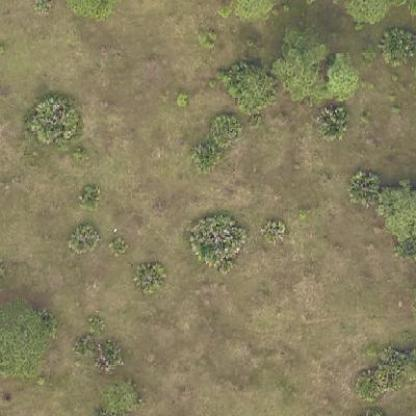tree-top: (268, 28, 362, 103), (0, 293, 58, 384), (184, 212, 246, 274), (215, 57, 275, 117), (22, 92, 86, 147), (380, 172, 415, 240), (373, 345, 415, 389), (98, 374, 146, 412), (337, 1, 408, 24), (346, 167, 382, 207), (216, 0, 280, 21), (58, 0, 116, 23), (66, 221, 102, 258)
